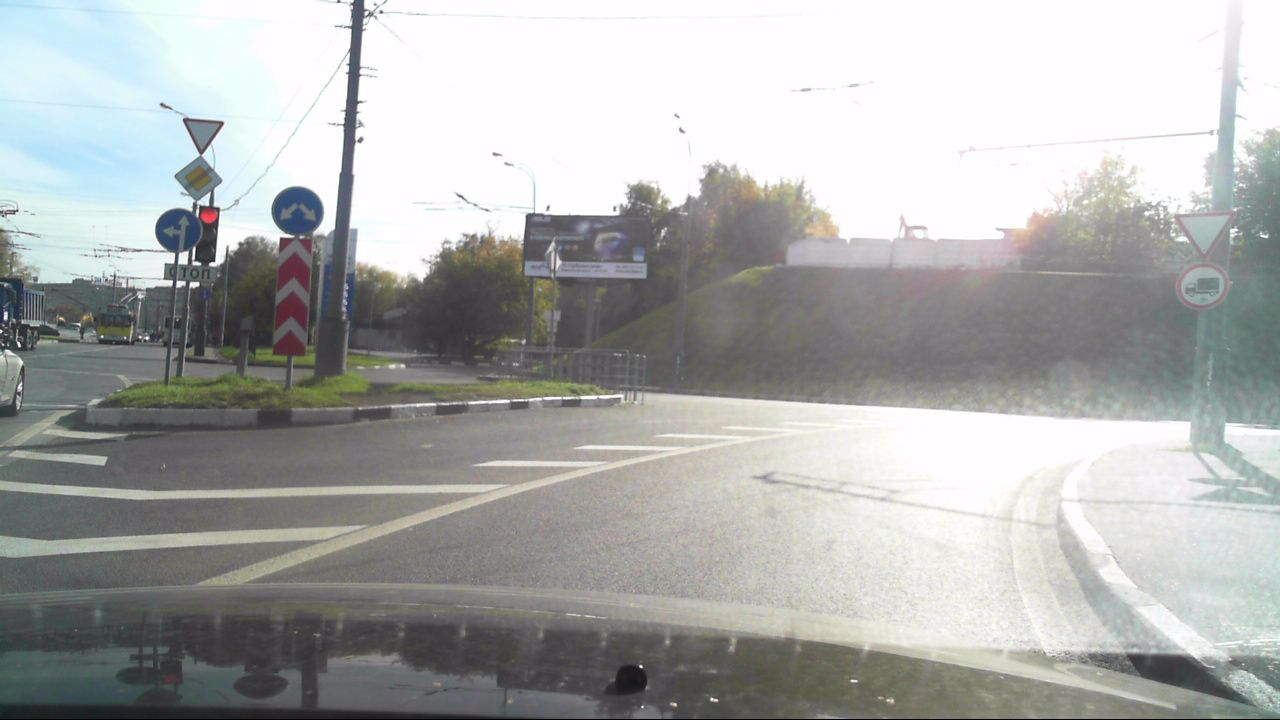main road: (170, 155, 225, 200)
